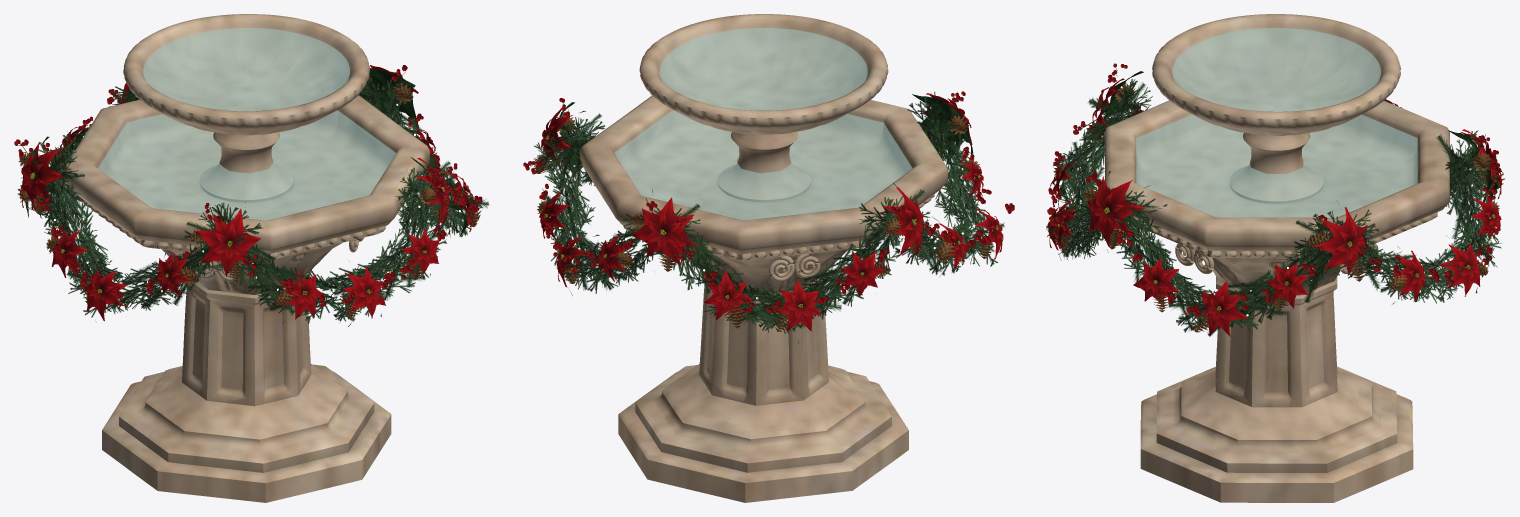
Rendered from Basin2.glb.
The picture shows the model from 3 angles, left to right: view 1: azimuth 30°, elevation 25°; view 2: azimuth 150°, elevation 25°; view 3: azimuth 270°, elevation 25°; orthographic projection.
Parts seen in each view (by area): view 1: Basin2_Stone, Basin2_WaterLower, XmasGarland_Greenery, Basin2_WaterUpper, XmasGarland_Poinsettia, XmasGarland_Berries, XmasGarland_Pinecones; view 2: Basin2_Stone, Basin2_WaterLower, XmasGarland_Greenery, Basin2_WaterUpper, XmasGarland_Poinsettia, XmasGarland_Pinecones, XmasGarland_Berries; view 3: Basin2_Stone, Basin2_WaterLower, XmasGarland_Greenery, Basin2_WaterUpper, XmasGarland_Poinsettia, XmasGarland_Berries, XmasGarland_Pinecones.
Boxes of the visible parts, left/top/right/bottom form: Basin2_Stone: left=63, top=14, right=429, bottom=502; Basin2_WaterLower: left=98, top=110, right=395, bottom=220; XmasGarland_Greenery: left=20, top=76, right=489, bottom=323; Basin2_WaterUpper: left=143, top=28, right=349, bottom=111; XmasGarland_Poinsettia: left=20, top=65, right=474, bottom=326; XmasGarland_Berries: left=14, top=65, right=482, bottom=306; XmasGarland_Pinecones: left=17, top=82, right=481, bottom=318; Basin2_Stone: left=580, top=14, right=947, bottom=502; Basin2_WaterLower: left=614, top=110, right=912, bottom=220; XmasGarland_Greenery: left=534, top=91, right=1004, bottom=333; Basin2_WaterUpper: left=660, top=28, right=867, bottom=110; XmasGarland_Poinsettia: left=539, top=93, right=1003, bottom=343; XmasGarland_Pinecones: left=533, top=115, right=994, bottom=331; XmasGarland_Berries: left=523, top=91, right=1014, bottom=313; Basin2_Stone: left=1104, top=14, right=1449, bottom=502; Basin2_WaterLower: left=1136, top=114, right=1417, bottom=217; XmasGarland_Greenery: left=1046, top=79, right=1501, bottom=336; Basin2_WaterUpper: left=1172, top=28, right=1380, bottom=111; XmasGarland_Poinsettia: left=1046, top=71, right=1503, bottom=336; XmasGarland_Berries: left=1047, top=63, right=1499, bottom=316; XmasGarland_Pinecones: left=1048, top=83, right=1504, bottom=332.
Bounding box in the file's own units: 1.17 × 1.05 × 1.16.
Materials: 7 (2 with a texture image).
